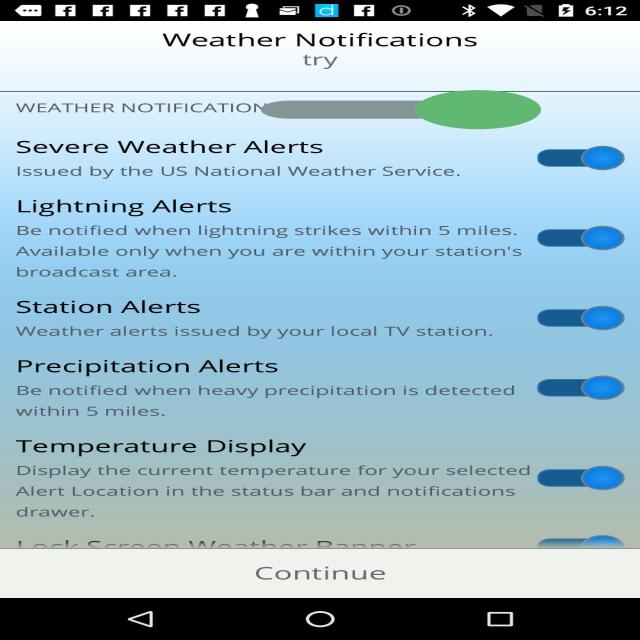social proof: (261, 66, 541, 153)
